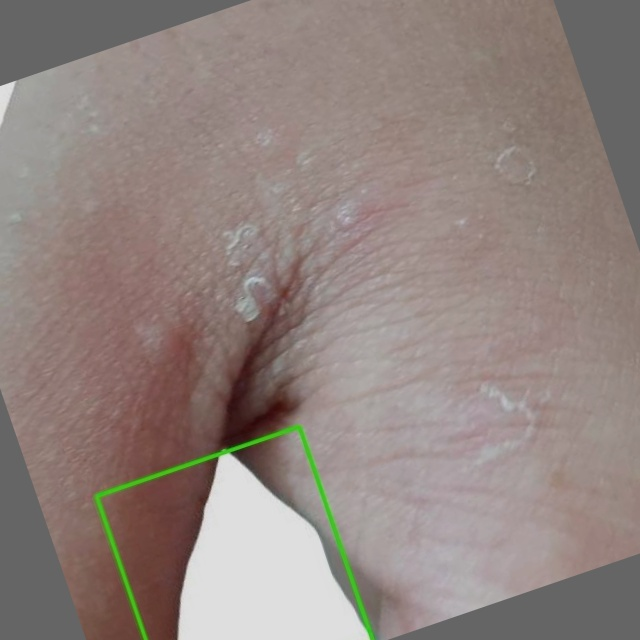Scabies: (96, 426, 372, 639)
